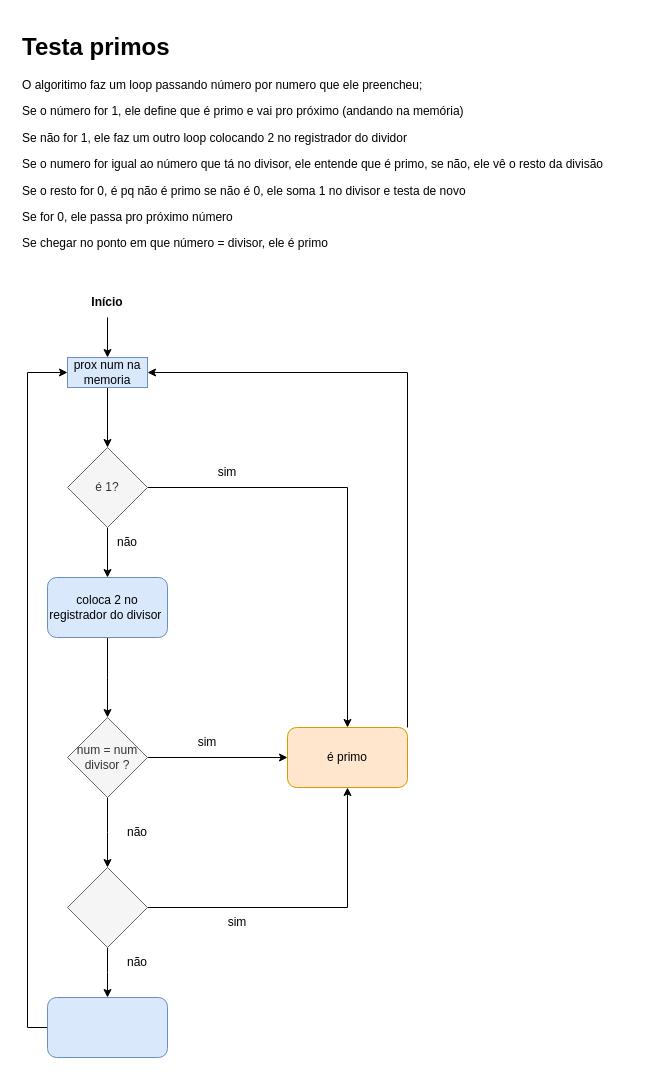
The diagram is 664 pixels wide and 1075 high, and some of its shapes have lost their labels. Each missing label, with the centre of its shape:
divisor ++: point (107, 1027)
resto da divisão = 0?: point (107, 907)
